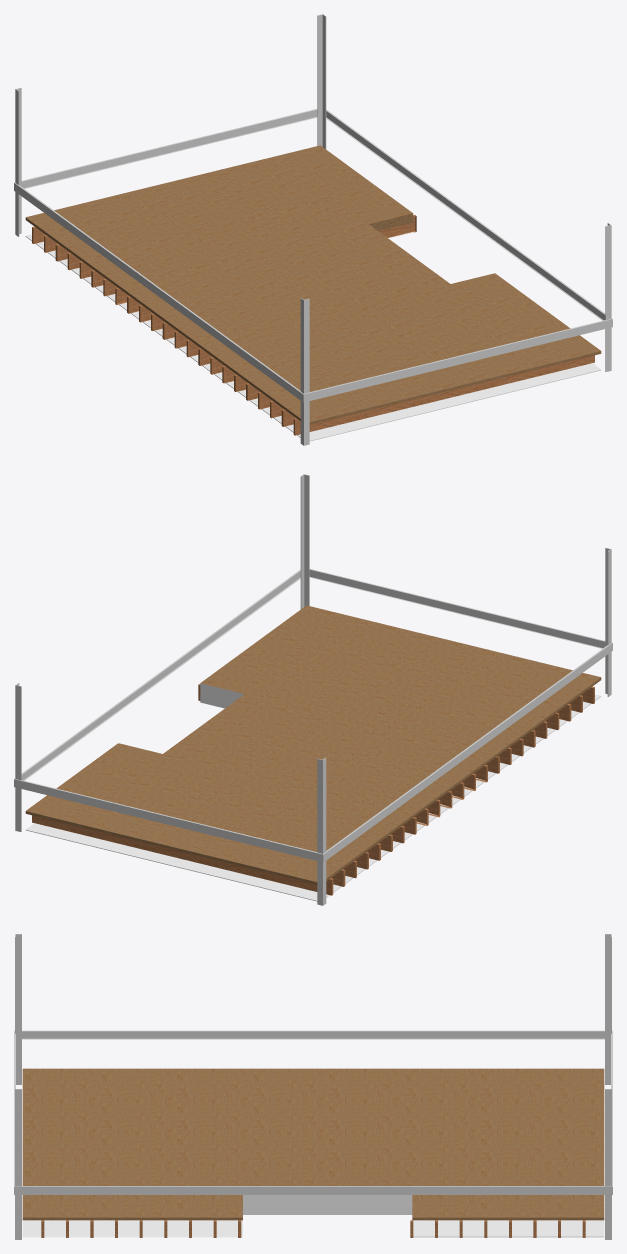
The model's file is 2storey_20x32_FFBlock.glb.
3 views of the same model, one above another, from view 1: azimuth 30°, elevation 25°; view 2: azimuth 150°, elevation 25°; view 3: azimuth 270°, elevation 25° (orthographic). The views are drawn at different scales.
Parts seen in each view (by area): view 1: FF- Floor Finish.001, trims, FF- framing.001, GF- Ceiling.001; view 2: FF- Floor Finish.001, trims, FF- framing.001, GF- Ceiling.001; view 3: FF- Floor Finish.001, trims, GF- Ceiling.001, FF- framing.001.
Boxes of the visible parts, x1,y1,x2,y2 form: FF- Floor Finish.001: (25, 145, 601, 424); trims: (14, 14, 612, 445); FF- framing.001: (32, 215, 594, 435); GF- Ceiling.001: (25, 232, 601, 441); FF- Floor Finish.001: (25, 605, 601, 884); trims: (14, 474, 612, 905); FF- framing.001: (32, 684, 594, 895); GF- Ceiling.001: (25, 683, 601, 901); FF- Floor Finish.001: (22, 1068, 604, 1220); trims: (14, 934, 612, 1239); GF- Ceiling.001: (22, 1195, 604, 1237); FF- framing.001: (41, 1220, 585, 1237).
Bounding box in the file's own units: 6.18 × 2.79 × 10.02.
Materials: 4 (2 with a texture image).
